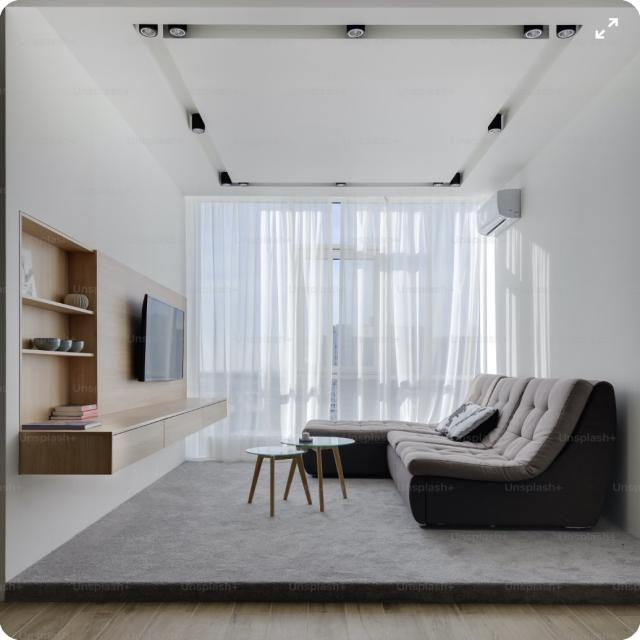air conditioner: (472, 188, 524, 240)
book: (52, 400, 104, 425)
bowl: (32, 329, 64, 353)
lamp: (178, 110, 212, 136), (133, 14, 162, 44), (484, 108, 509, 140), (168, 16, 194, 44), (340, 20, 373, 41), (556, 18, 582, 44), (518, 21, 548, 43), (213, 166, 234, 191)
potted plant: (58, 278, 98, 312)
sofa: (400, 374, 614, 540)
table: (252, 436, 354, 512)
television: (133, 285, 191, 384)
